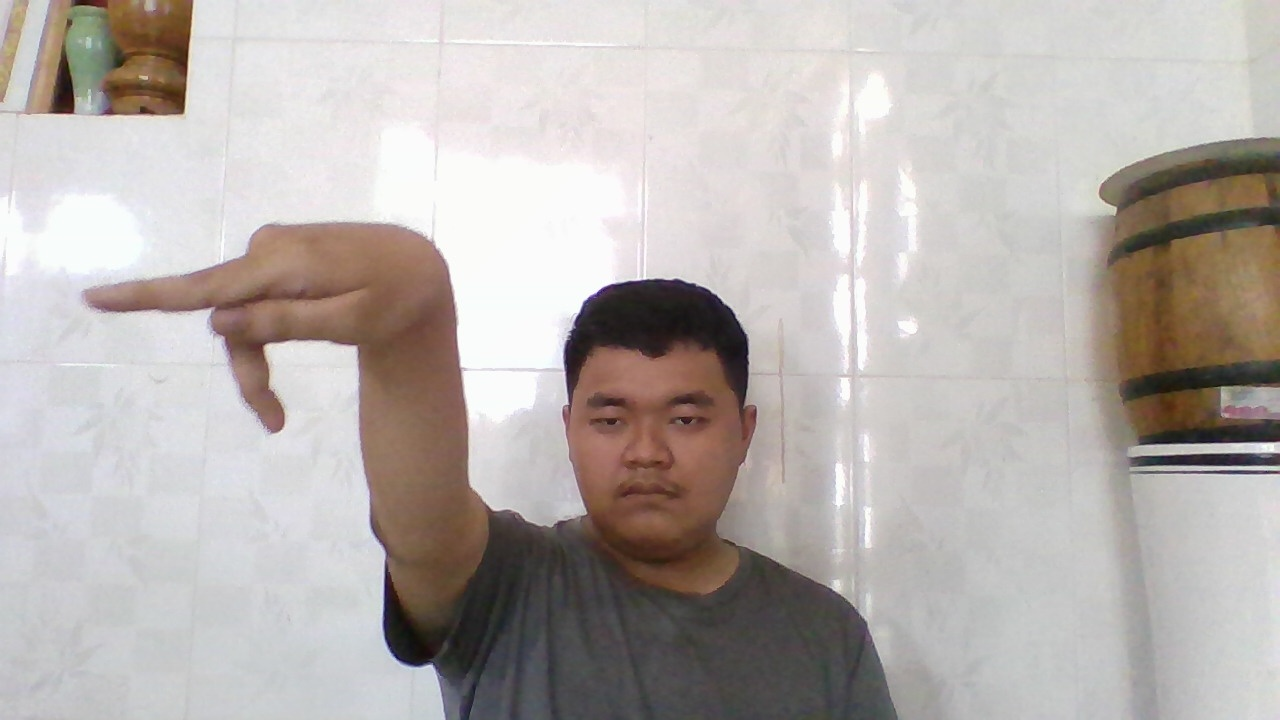P: (87, 232, 432, 426)
